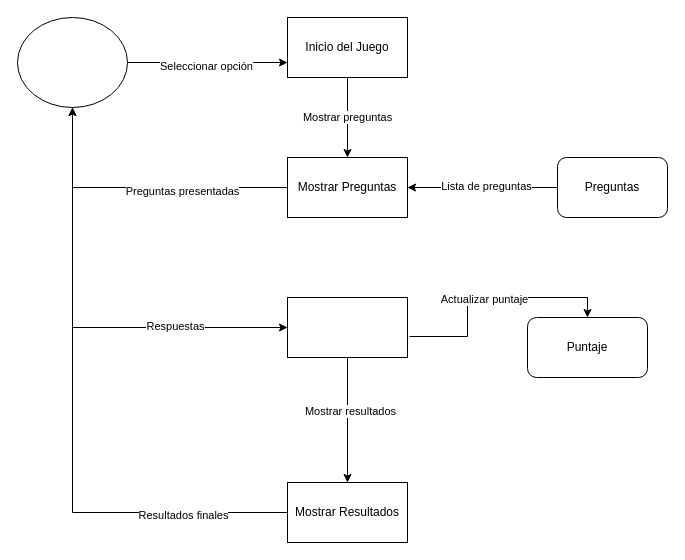
Some shapes in this 685 by 560 pixel diagram are drawn without their labels. Each missing label, with the centre of its shape:
"Calcular Puntaje" belongs at (347,327).
"Jugador" belongs at (72,62).
